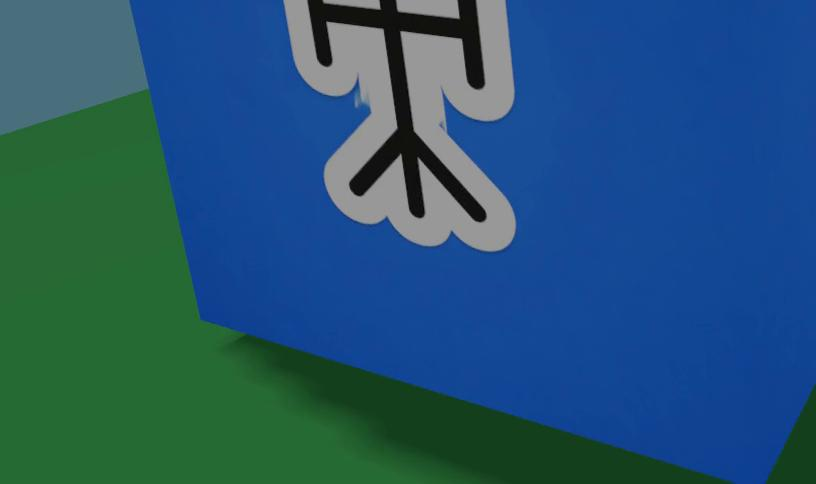KFS_REAL: (128, 0, 816, 483), (285, 0, 513, 247)
